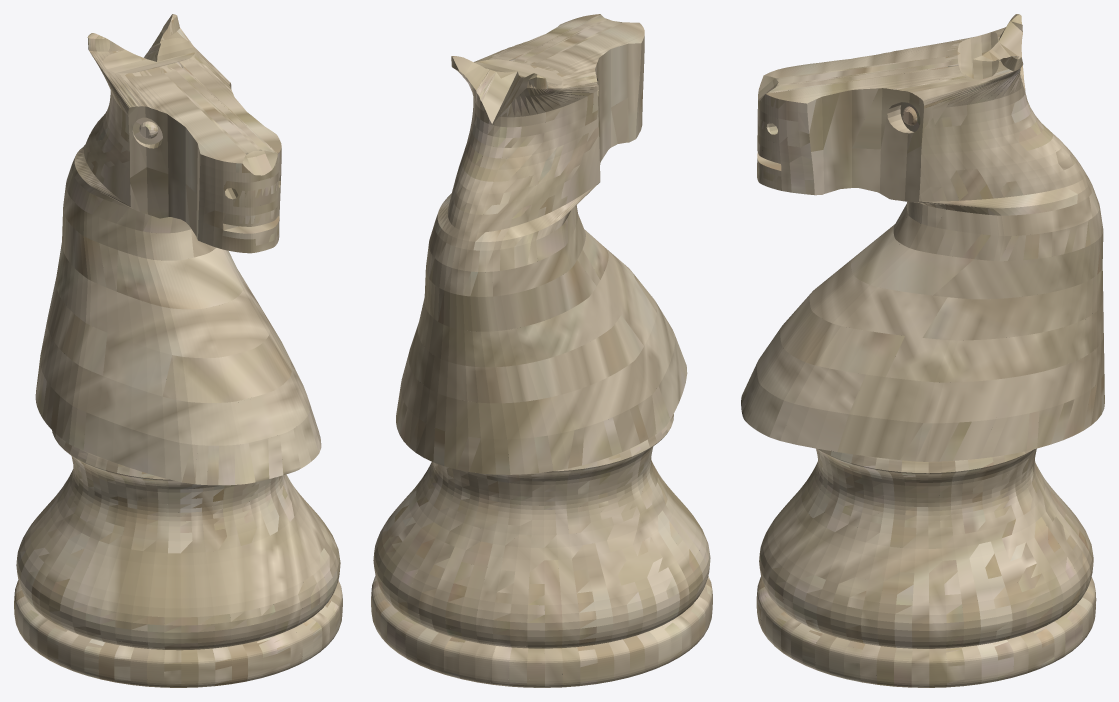
File: knight_1.obj
The picture shows the model from 3 angles, left to right: view 1: azimuth 30°, elevation 25°; view 2: azimuth 150°, elevation 25°; view 3: azimuth 270°, elevation 25°; orthographic projection. The views are drawn at different scales.
Visible parts, largest first — view 1: Object3; view 2: Object3; view 3: Object3.
Boxes of the visible parts, bbox=[...] form: Object3: bbox=[14, 14, 342, 687]; Object3: bbox=[371, 14, 712, 687]; Object3: bbox=[741, 14, 1104, 687].
Bounding box in the file's own units: 86.61 × 165 × 92.84.
1 material, 1 textured.
